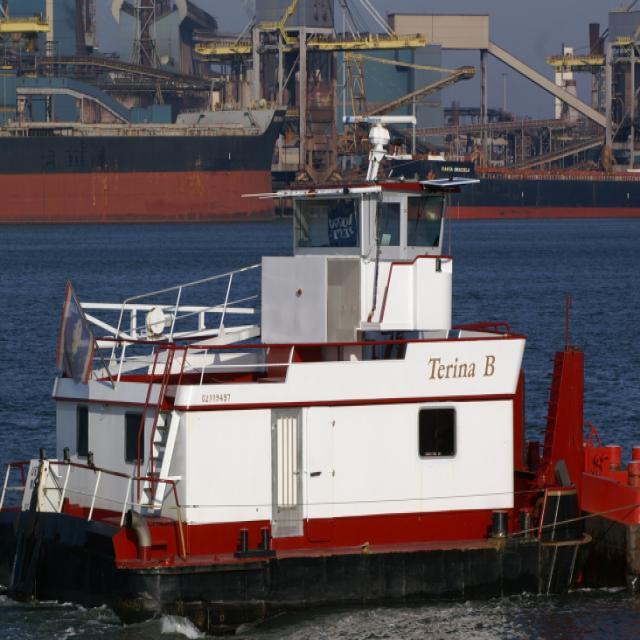tugboat: (1, 111, 601, 640)
